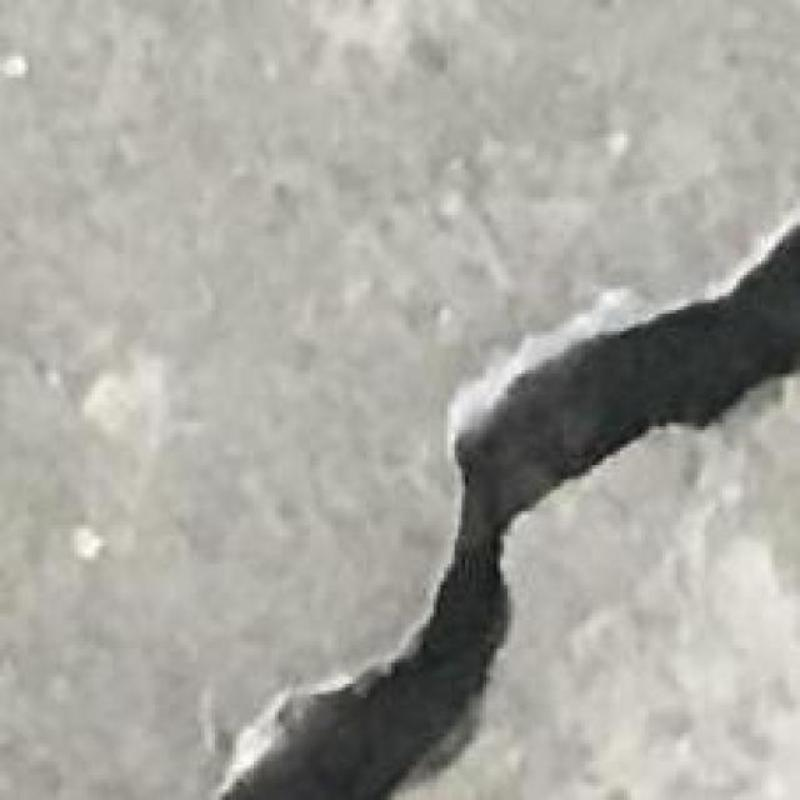pothole: (220, 222, 799, 799)
